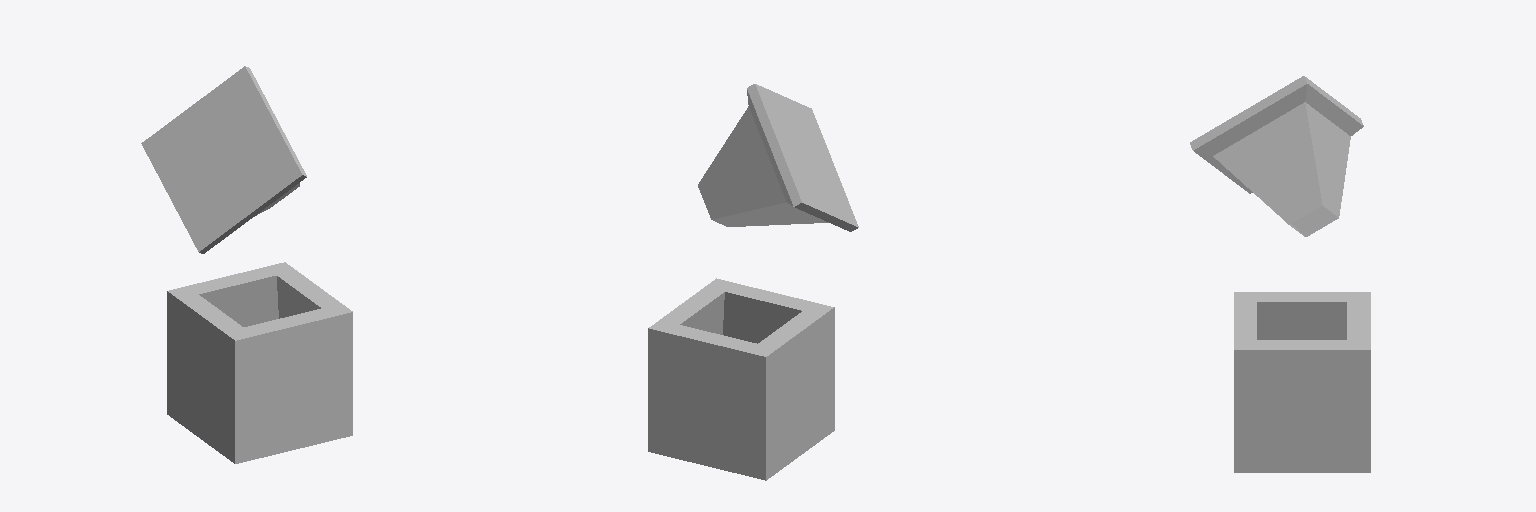
Rendered from AnimatedBox_000117.obj.
3 renders of one model, left to right at view 1: azimuth 30°, elevation 25°; view 2: azimuth 150°, elevation 25°; view 3: azimuth 270°, elevation 25°, orthographic.
Visible parts, largest first — view 1: Cube, Cube.001; view 2: Cube, Cube.001; view 3: Cube, Cube.001.
Boxes of the visible parts, x1,y1,x2,y2 form: Cube: [167, 262, 352, 463]; Cube.001: [141, 66, 306, 253]; Cube: [648, 278, 834, 480]; Cube.001: [698, 84, 858, 231]; Cube: [1234, 292, 1370, 472]; Cube.001: [1190, 76, 1363, 236].
Bounding box in the file's own units: 2.52 × 5.86 × 2.66.